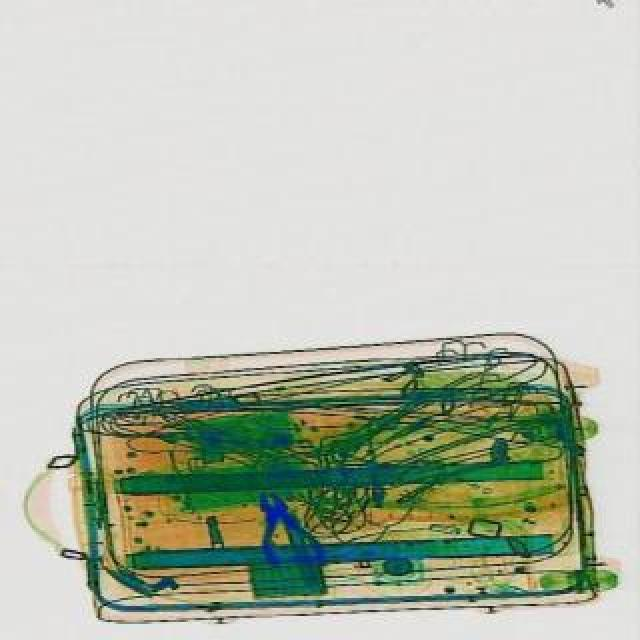wrench: (240, 482, 324, 578)
